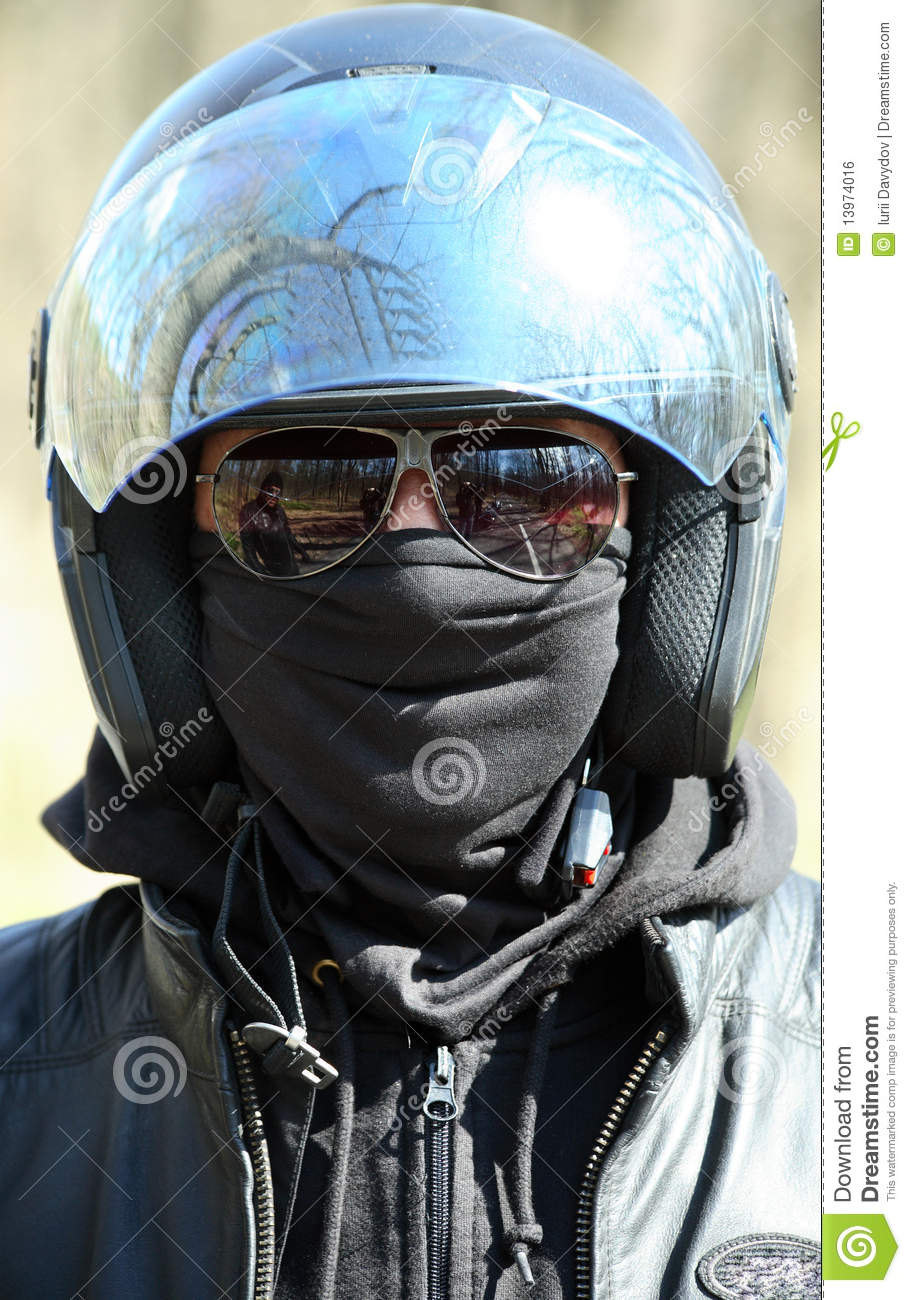helmet: (55, 37, 797, 851)
